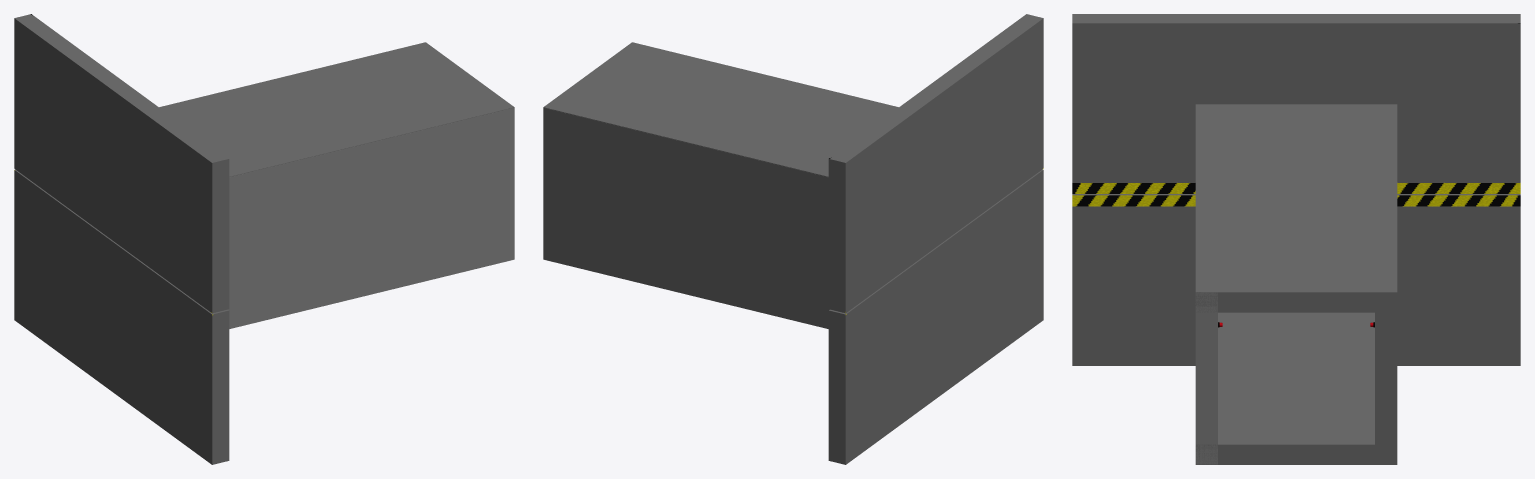
File: MenuView.glb
3 renders of one model, left to right at view 1: azimuth 30°, elevation 25°; view 2: azimuth 150°, elevation 25°; view 3: azimuth 270°, elevation 25°, orthographic. The views are drawn at different scales.
Parts seen in each view (by area): view 1: LeftWall, DoorTop, DoorBottom, Cieling; view 2: RightWall, DoorTop, DoorBottom, Cieling; view 3: DoorTop, DoorBottom, Cieling, Floor, LeftWall, RightWall.
Part boxes in pixels (bbox=[...]): LeftWall: bbox=[228, 107, 514, 328]; DoorTop: bbox=[14, 14, 229, 313]; DoorBottom: bbox=[14, 169, 229, 464]; Cieling: bbox=[159, 42, 514, 176]; RightWall: bbox=[543, 107, 829, 328]; DoorTop: bbox=[828, 14, 1043, 313]; DoorBottom: bbox=[828, 169, 1043, 464]; Cieling: bbox=[543, 42, 898, 176]; DoorTop: bbox=[1072, 14, 1520, 193]; DoorBottom: bbox=[1072, 194, 1520, 365]; Cieling: bbox=[1195, 104, 1397, 312]; Floor: bbox=[1195, 312, 1396, 464]; LeftWall: bbox=[1195, 292, 1217, 464]; RightWall: bbox=[1375, 292, 1397, 464].
Size of the model in its own units: 41.66 by 33.68 by 40.
6 materials, 6 textured.
